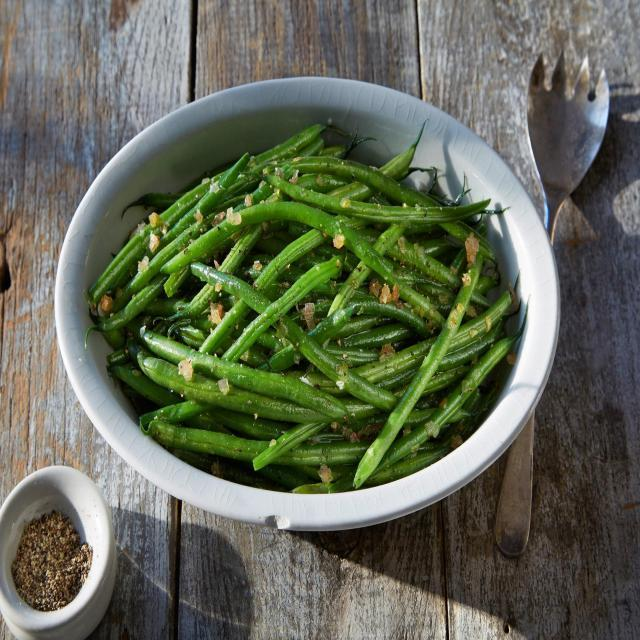Beans: (80, 109, 524, 492)
